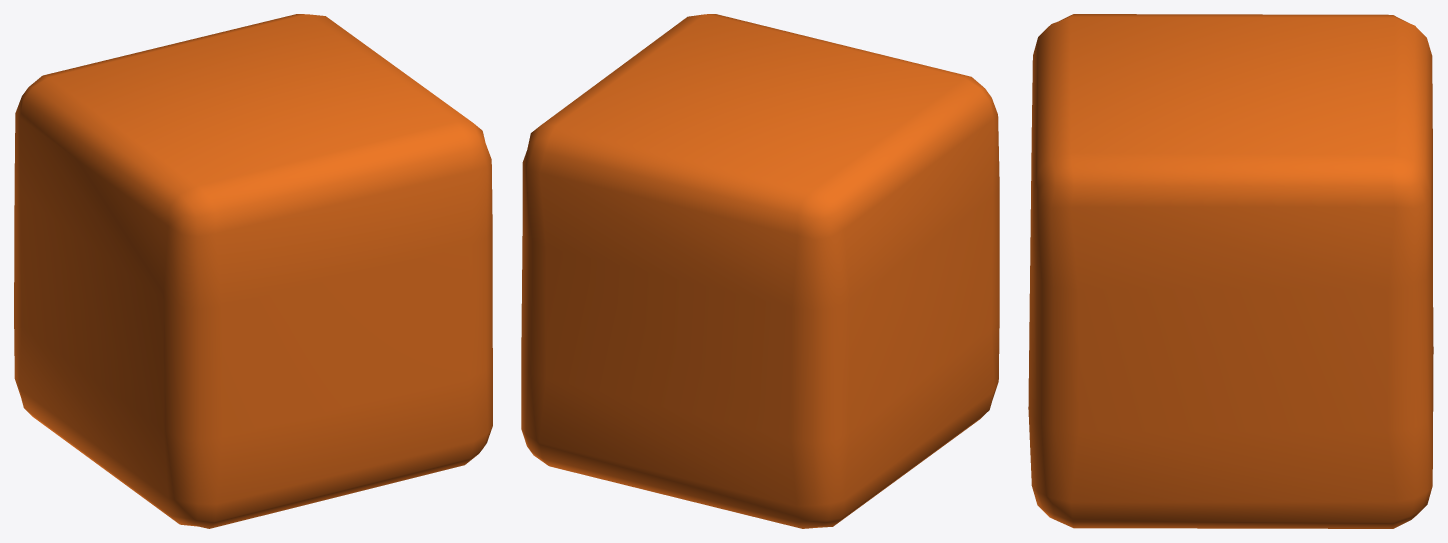
3 views of the same model, side by side, from view 1: azimuth 30°, elevation 25°; view 2: azimuth 150°, elevation 25°; view 3: azimuth 270°, elevation 25° (orthographic). The views are drawn at different scales.
Parts seen in each view (by area): view 1: Cube; view 2: Cube; view 3: Cube.
Boxes of the visible parts, x1=… form: Cube: x1=14, y1=14, x2=492, y2=528; Cube: x1=521, y1=14, x2=999, y2=528; Cube: x1=1028, y1=14, x2=1433, y2=528.
Bounding box in the file's own units: 1.09 × 1.11 × 1.09.
